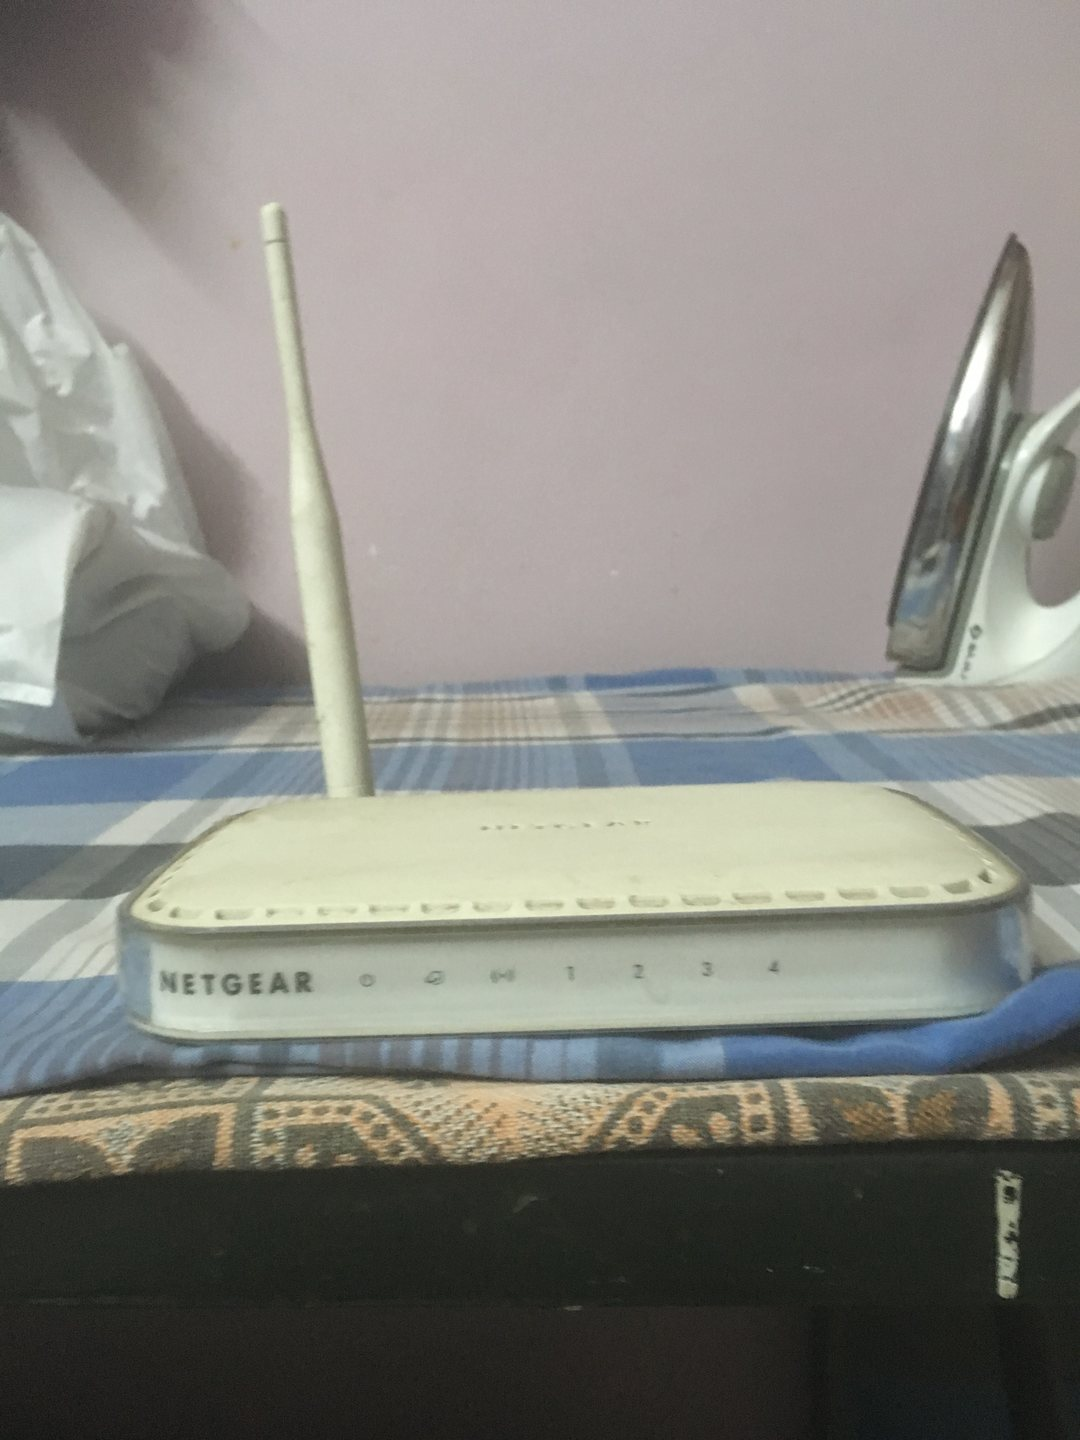NETGEAR: (152, 964, 320, 1003)
modem: (100, 893, 1033, 1044)
